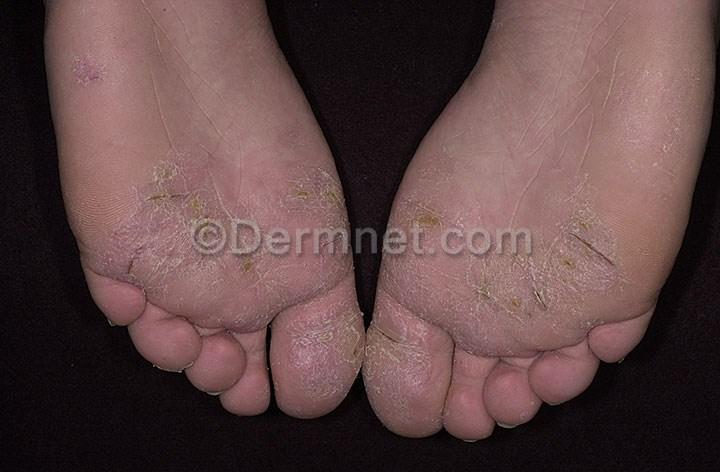Eczema: (554, 169, 632, 293), (129, 153, 243, 215), (279, 307, 352, 399), (96, 229, 188, 295), (458, 263, 550, 324), (375, 301, 435, 388), (270, 158, 344, 223), (405, 189, 475, 221)
